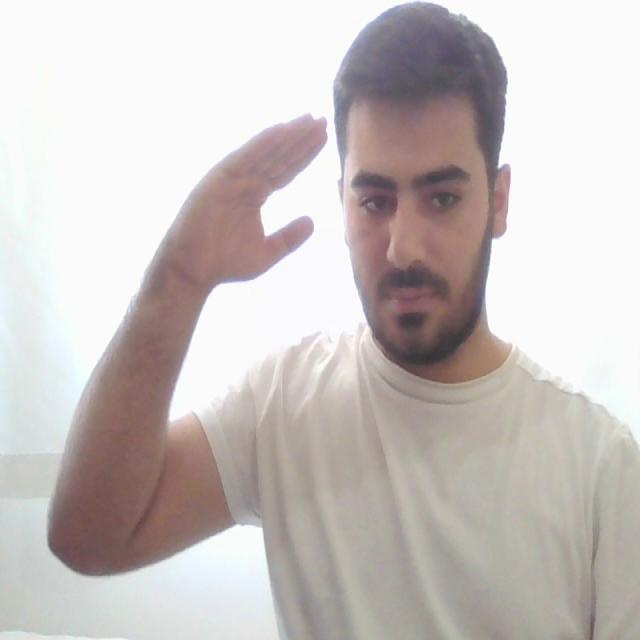Merhaba: (179, 88, 397, 325)
